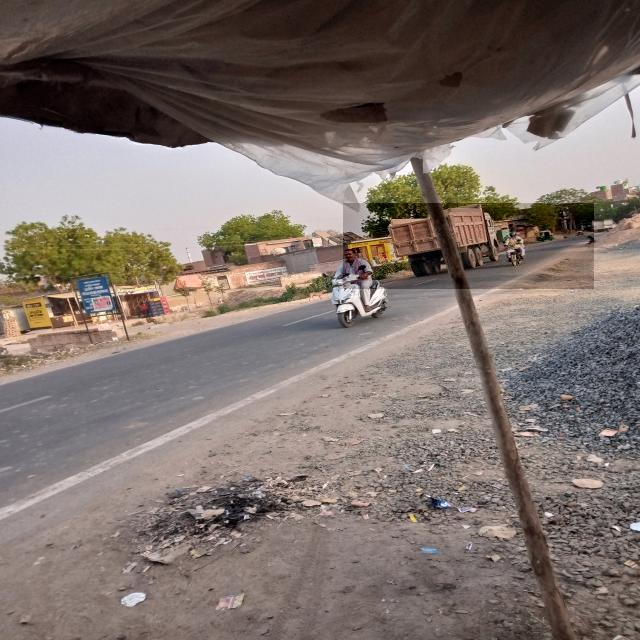Truck: (343, 203, 594, 290)
